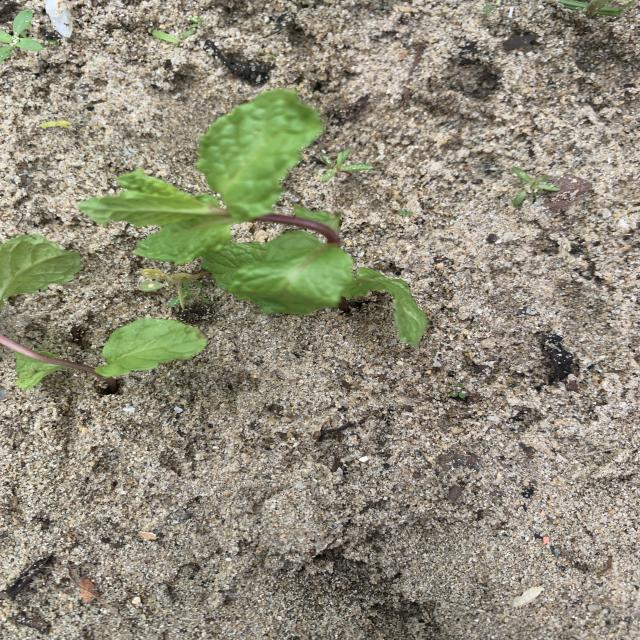crop: (79, 89, 424, 343), (1, 316, 205, 389)
weed: (140, 268, 203, 306), (0, 10, 44, 60), (513, 168, 558, 205), (320, 149, 371, 180), (151, 17, 201, 44), (449, 383, 467, 399), (40, 120, 71, 127), (399, 210, 412, 215)
